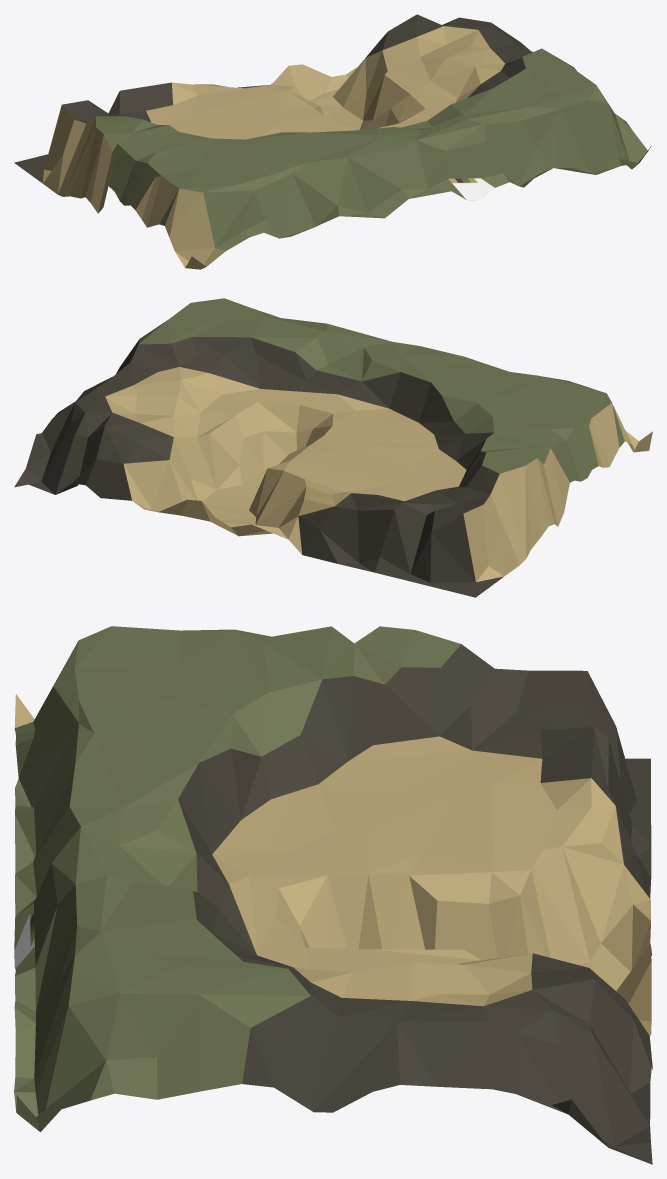
File: ColoredBeach.fbx
3 views of the same model, one above another, from view 1: azimuth 30°, elevation 25°; view 2: azimuth 150°, elevation 25°; view 3: azimuth 270°, elevation 25° (orthographic). The views are drawn at different scales.
Visible parts, largest first — view 1: Beach_BeforeLow.001; view 2: Beach_BeforeLow.001; view 3: Beach_BeforeLow.001.
Boxes of the visible parts, box(x1,y1,x2,y2) form: Beach_BeforeLow.001: box(14, 14, 651, 269); Beach_BeforeLow.001: box(14, 298, 652, 597); Beach_BeforeLow.001: box(14, 626, 652, 1164).
Size of the model in its own units: 15062 by 2599 by 10052.
